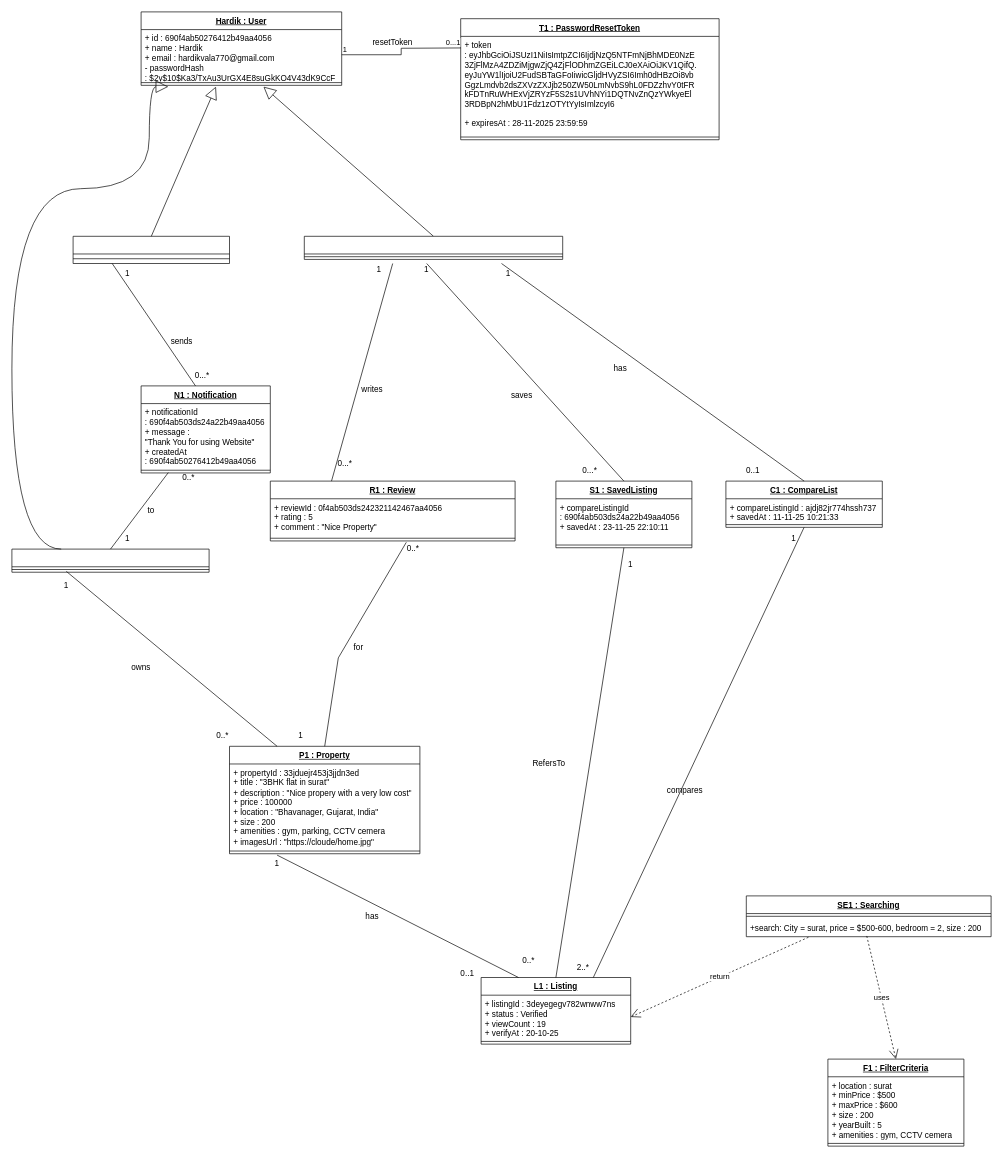
Image size: 1003x1158. Some labels were removed from this diagram. Each missing label, with the centre of its shape:
"Prince : RegisteredUser" belongs at [433,247].
"Rushi : Lister" belongs at [110,560].
"Sheh : Admin" belongs at [151,250].
